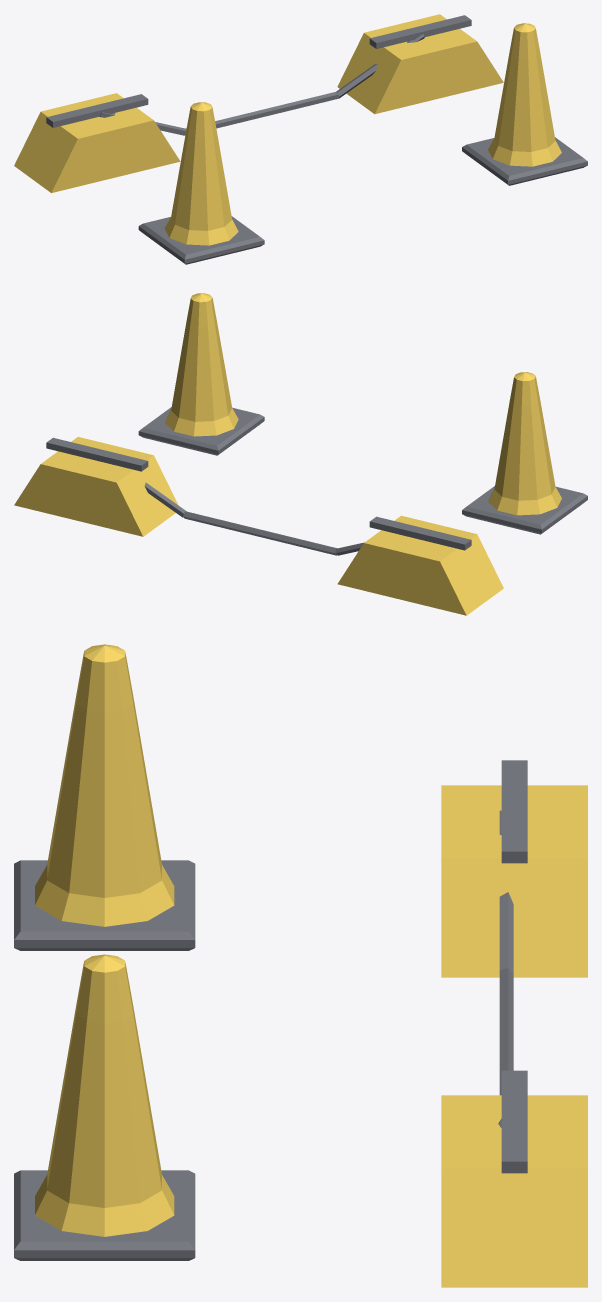
Rendered from wheel_chock_and.glb.
The picture shows the model from 3 angles, top to bottom: view 1: azimuth 30°, elevation 25°; view 2: azimuth 150°, elevation 25°; view 3: azimuth 270°, elevation 25°; orthographic projection. The views are drawn at different scales.
Visible parts, largest first — view 1: wheel-chock-and-cone-set; view 2: wheel-chock-and-cone-set; view 3: wheel-chock-and-cone-set.
Part boxes in pixels (<box>): wheel-chock-and-cone-set: <box>14,14,587,264</box>; wheel-chock-and-cone-set: <box>14,293,587,615</box>; wheel-chock-and-cone-set: <box>14,644,587,1287</box>.
Size of the model in its own units: 2.38 by 0.6901 by 1.33.
1 material, 1 textured.
